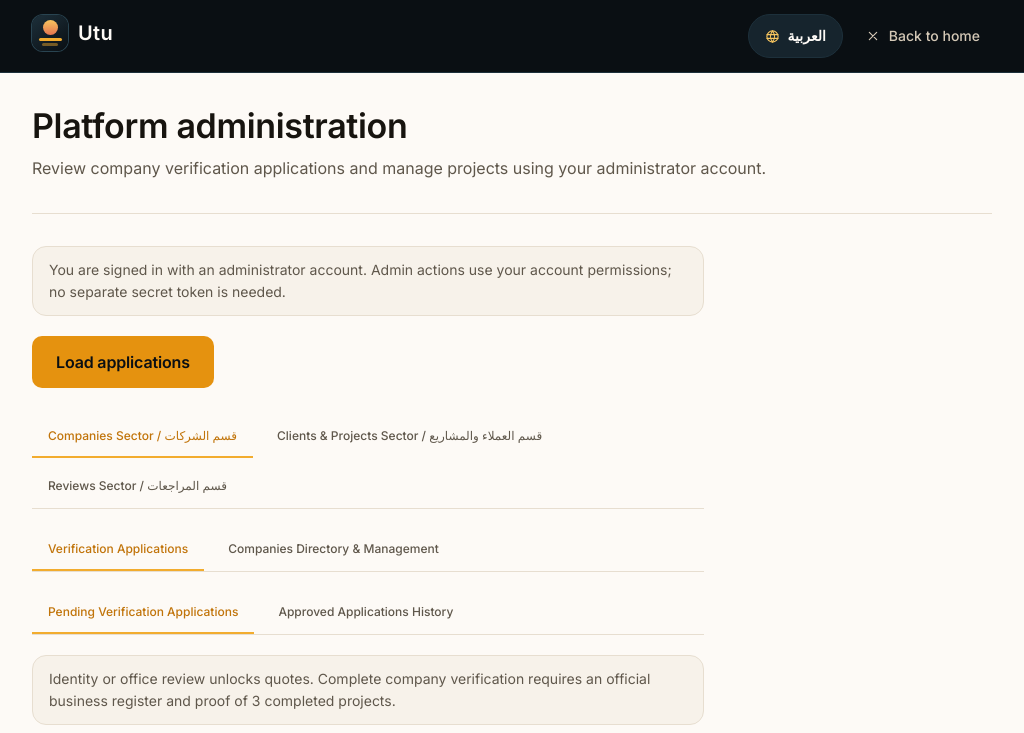
Scenario: CompanyPortalPage admin requirements › lets the administrator authorize a contract signed by both parties
Click the button "Load applications".
click(123, 362)  # box [32,336,214,388]
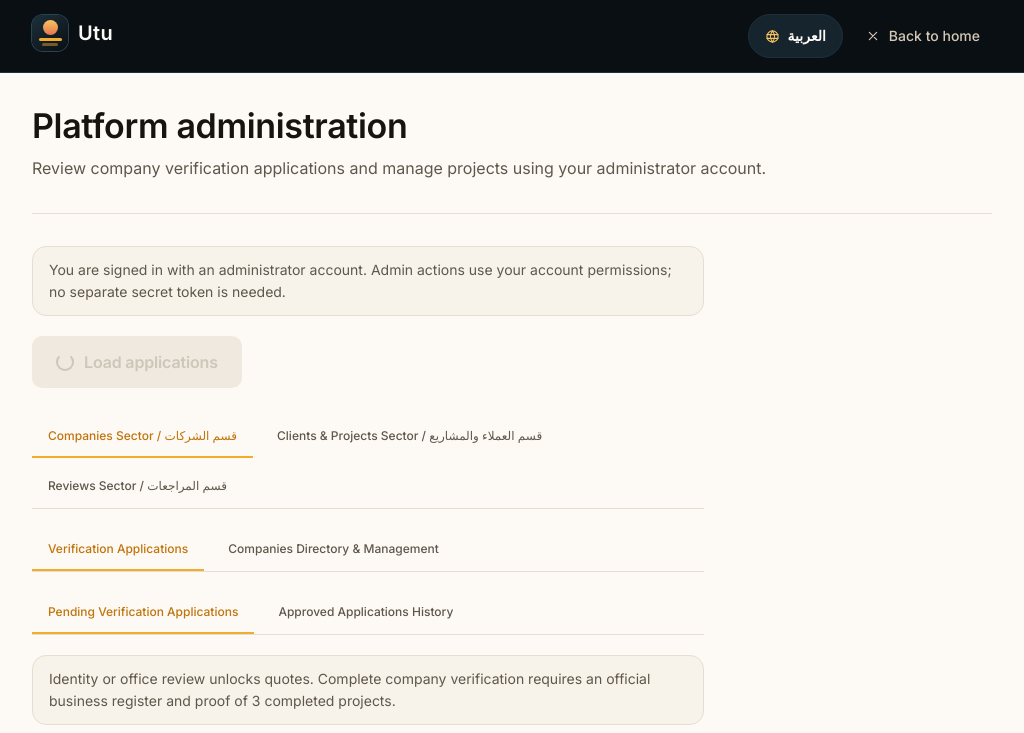
Click the tab "Clients & Projects Sector / قسم العملاء والمشاريع".
click(410, 437)  # box [261,416,558,458]
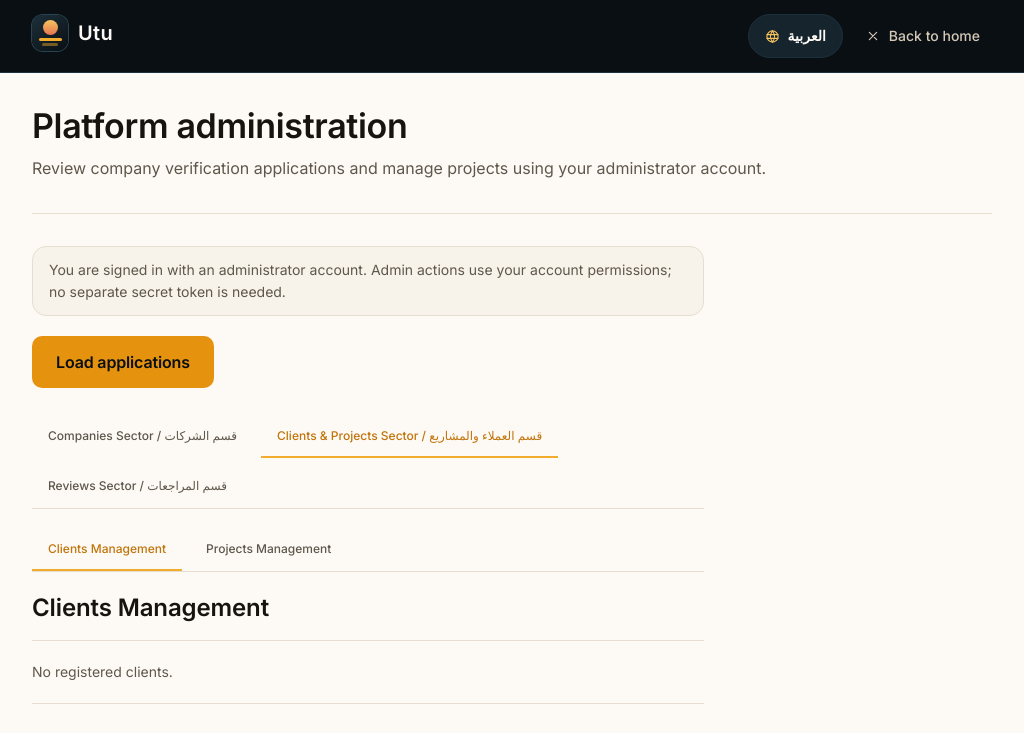
Click the tab "Projects Management".
click(269, 550)  # box [190,529,347,571]
(page scrolled)
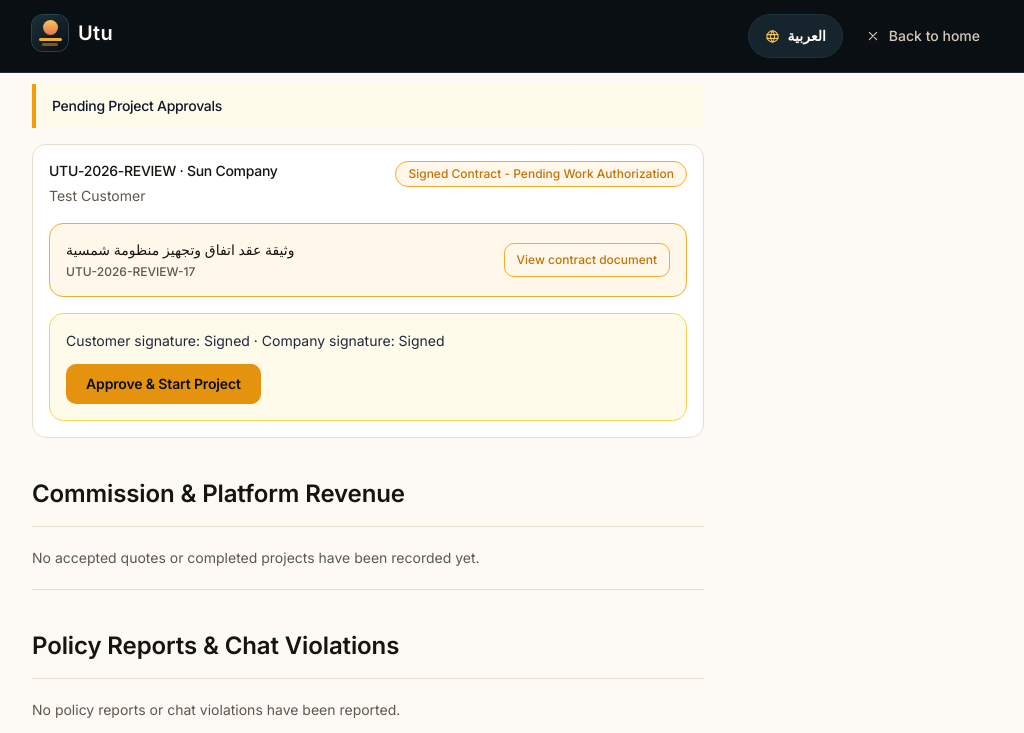
Click the button "Approve & Start Project".
click(163, 384)  # box [66,364,261,404]
(page scrolled)
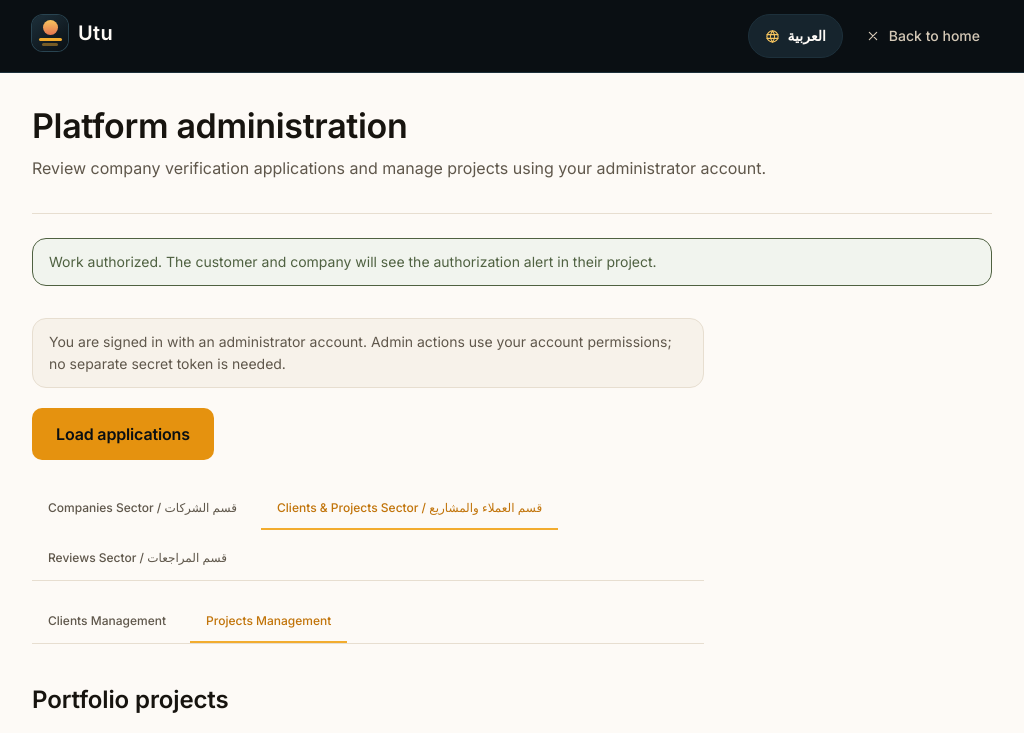
Check: the text "Work authorized. The customer and company will see the authorization alert in their project." is shown, box [49,253,657,270]
